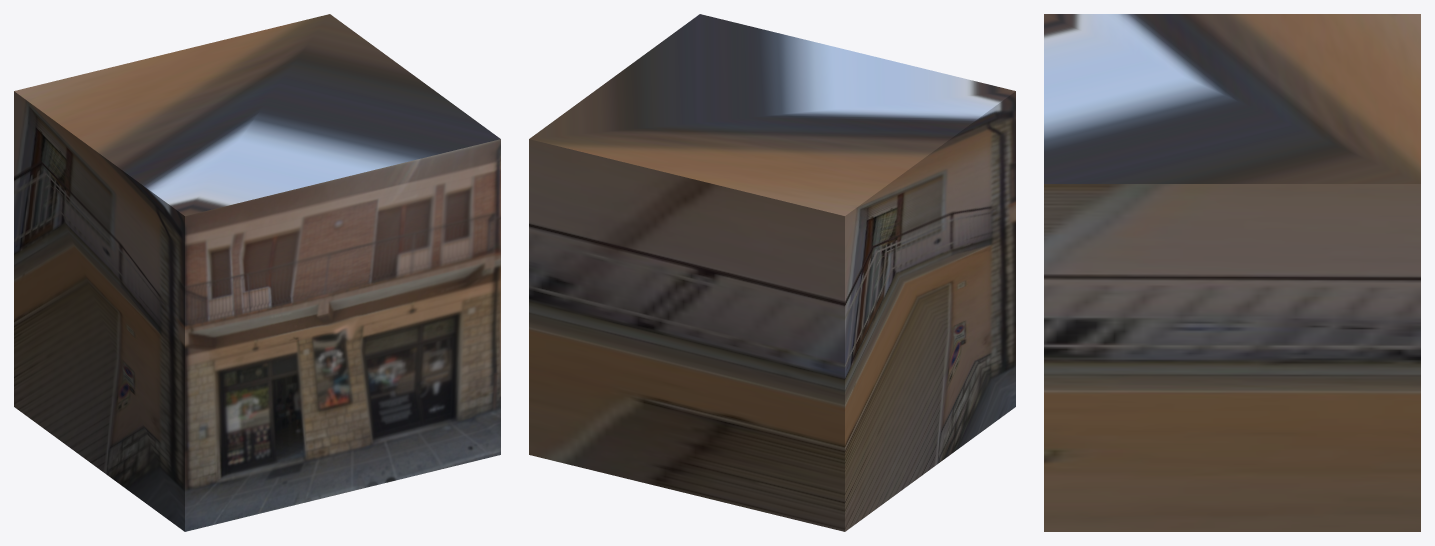
The model's file is B5Kebabbo.glb.
3 views of the same model, side by side, from view 1: azimuth 30°, elevation 25°; view 2: azimuth 150°, elevation 25°; view 3: azimuth 270°, elevation 25° (orthographic). The views are drawn at different scales.
Visible parts, largest first — view 1: Cube; view 2: Cube; view 3: Cube.
Boxes of the visible parts, x1,y1,x2,y2 form: Cube: (14, 14, 500, 531); Cube: (529, 14, 1015, 531); Cube: (1044, 14, 1420, 531).
Size of the model in its own units: 165 by 158 by 155.
1 material, 1 textured.
